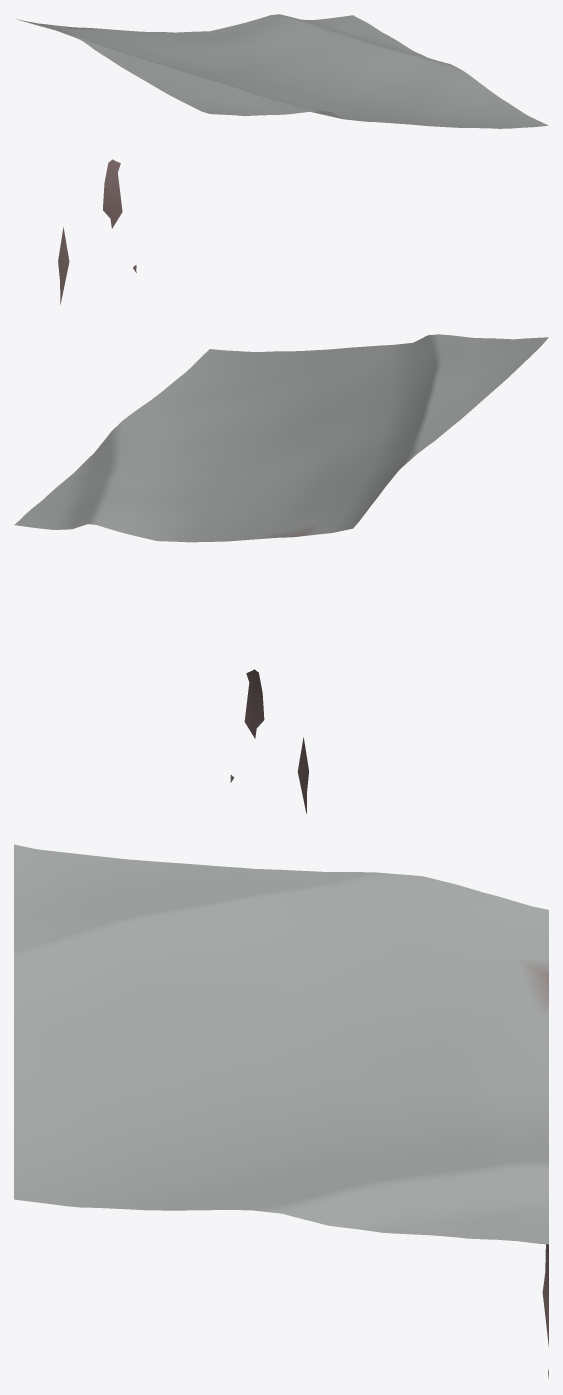
The picture shows the model from 3 angles, top to bottom: view 1: azimuth 30°, elevation 25°; view 2: azimuth 150°, elevation 25°; view 3: azimuth 270°, elevation 25°; orthographic projection. The views are drawn at different scales.
Parts seen in each view (by area): view 1: G:\FFXIV-MapTools\exports\u5f1\bg\ex4\04_uvs_u5\fld\u5f1\bgp (×4); view 2: G:\FFXIV-MapTools\exports\u5f1\bg\ex4\04_uvs_u5\fld\u5f1\bgp (×4); view 3: G:\FFXIV-MapTools\exports\u5f1\bg\ex4\04_uvs_u5\fld\u5f1\bgp (×3).
Part boxes in pixels (x1=…): G:\FFXIV-MapTools\exports\u5f1\bg\ex4\04_uvs_u5\fld\u5f1\bgp (×4): x1=16, y1=14, x2=548, y2=268; G:\FFXIV-MapTools\exports\u5f1\bg\ex4\04_uvs_u5\fld\u5f1\bgp (×4): x1=22, y1=334, x2=548, y2=777; G:\FFXIV-MapTools\exports\u5f1\bg\ex4\04_uvs_u5\fld\u5f1\bgp (×3): x1=14, y1=844, x2=548, y2=1241.
Size of the model in its own units: 128 by 125 by 128.
